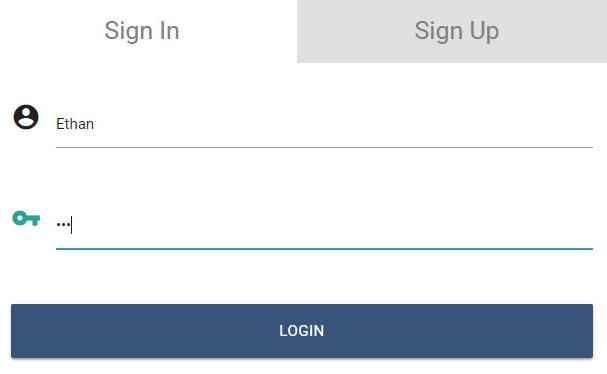button: (8, 301, 597, 359)
field_line: (52, 211, 595, 253), (52, 111, 597, 150)
